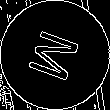M_E: (23, 25, 87, 85)
